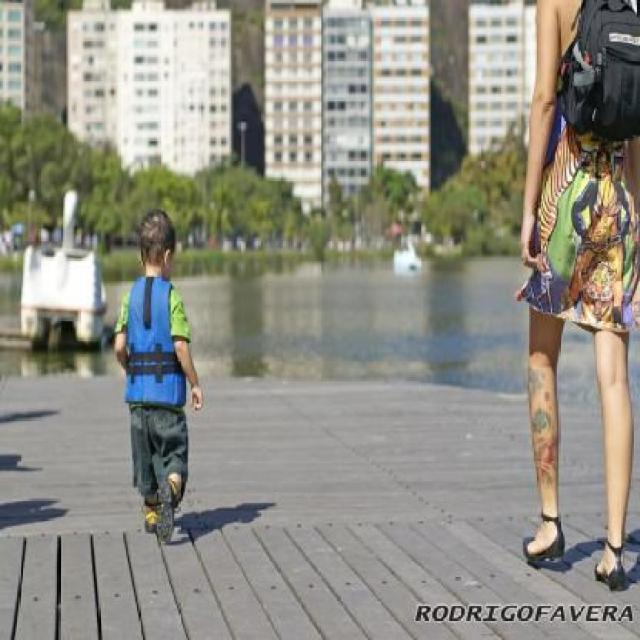backpack: (557, 0, 640, 145)
